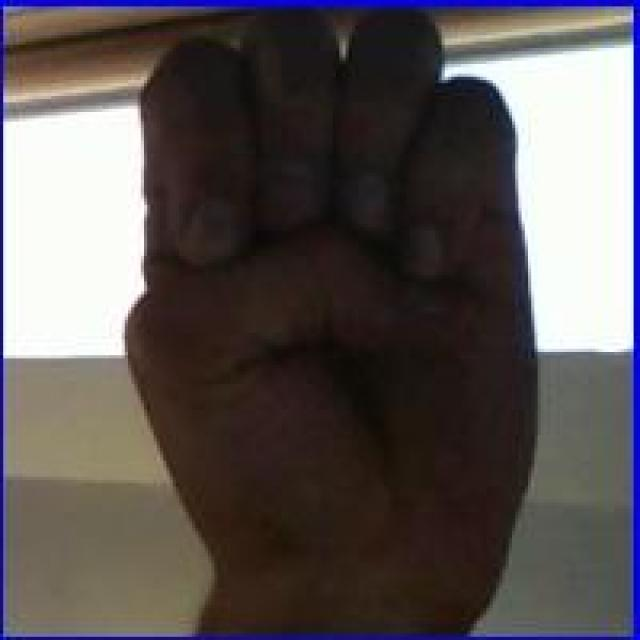E: (114, 8, 555, 632)
